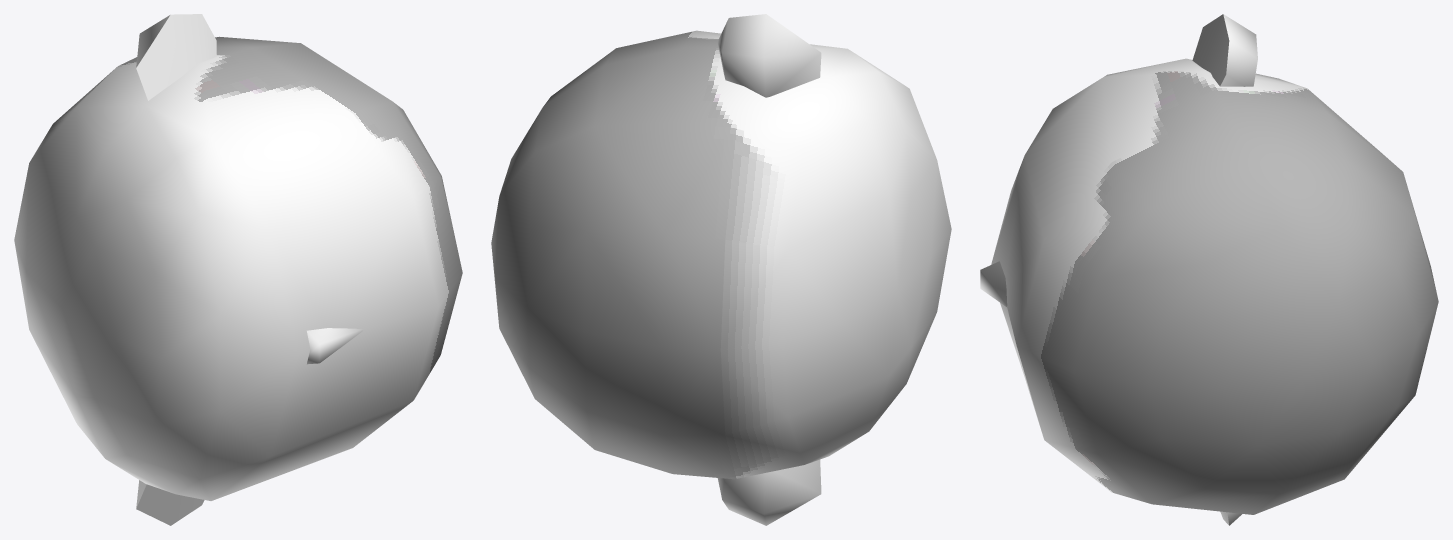
Rendered from boy00a.dae.
3 views of the same model, side by side, from view 1: azimuth 30°, elevation 25°; view 2: azimuth 150°, elevation 25°; view 3: azimuth 270°, elevation 25° (orthographic).
Visible parts, largest first — view 1: boy00a; view 2: boy00a; view 3: boy00a.
Boxes of the visible parts, box(x1,y1,x2,y2) form: boy00a: box(14, 14, 462, 525); boy00a: box(491, 14, 951, 525); boy00a: box(980, 14, 1438, 525).
Size of the model in its own units: 20.22 by 26.71 by 21.96.
3 materials, 1 textured.
